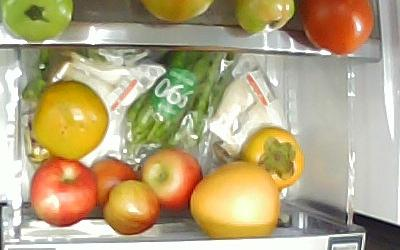apple: (29, 157, 96, 227), (140, 149, 203, 213)
grapefruit: (190, 160, 281, 239)
persimmon: (29, 82, 110, 161), (241, 126, 307, 188)
prune: (103, 179, 161, 235), (89, 158, 138, 209)
